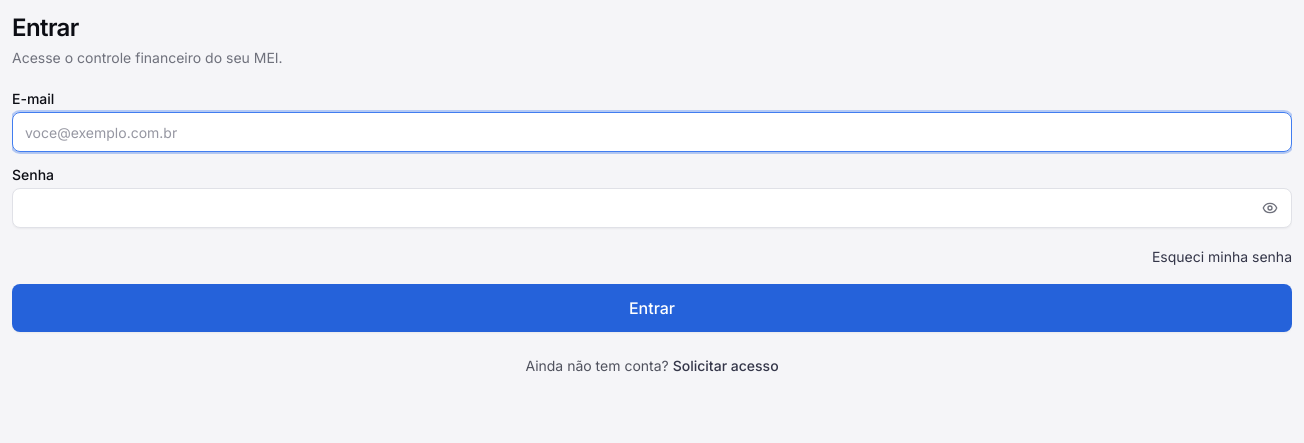
LoginPage › mostra erro de rede de forma amigável
In the field labelled "E-mail": (652, 132) x1=12 y1=112 x2=1292 y2=152, type "maria@exemplo.com.br"
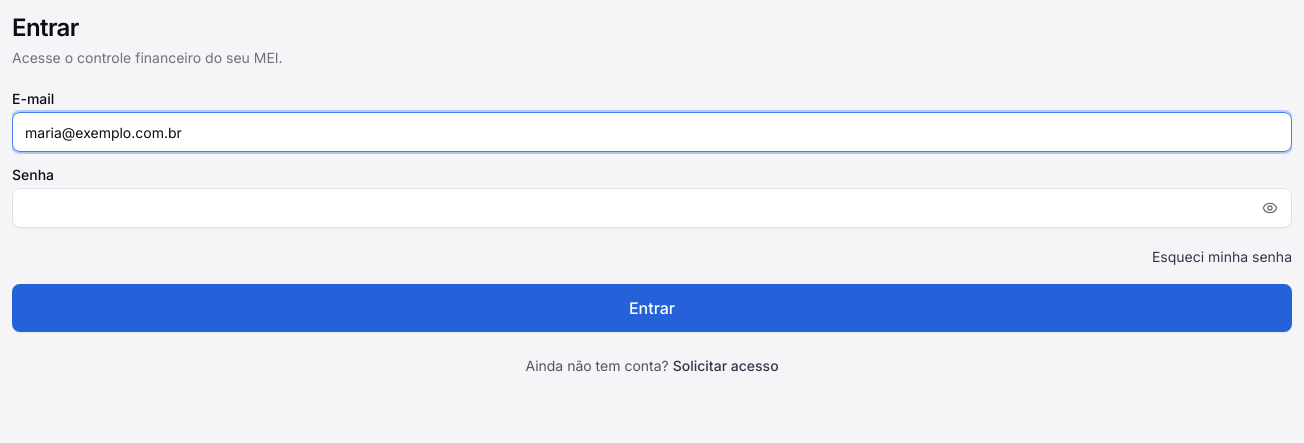
In the password field labelled "Senha": (652, 208) x1=12 y1=188 x2=1292 y2=228, type "segredo123"
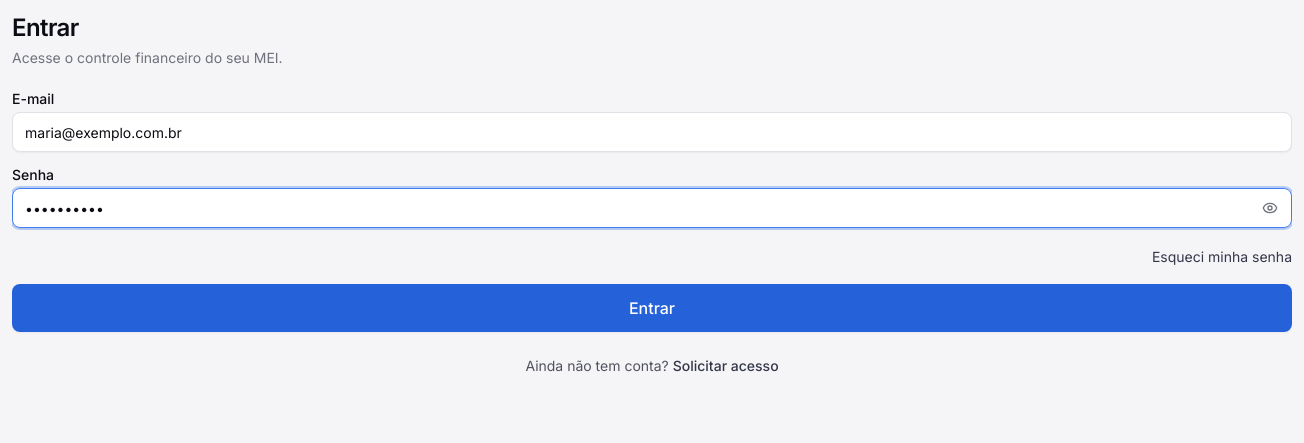
Click the button "Entrar": (652, 308) x1=12 y1=284 x2=1292 y2=332
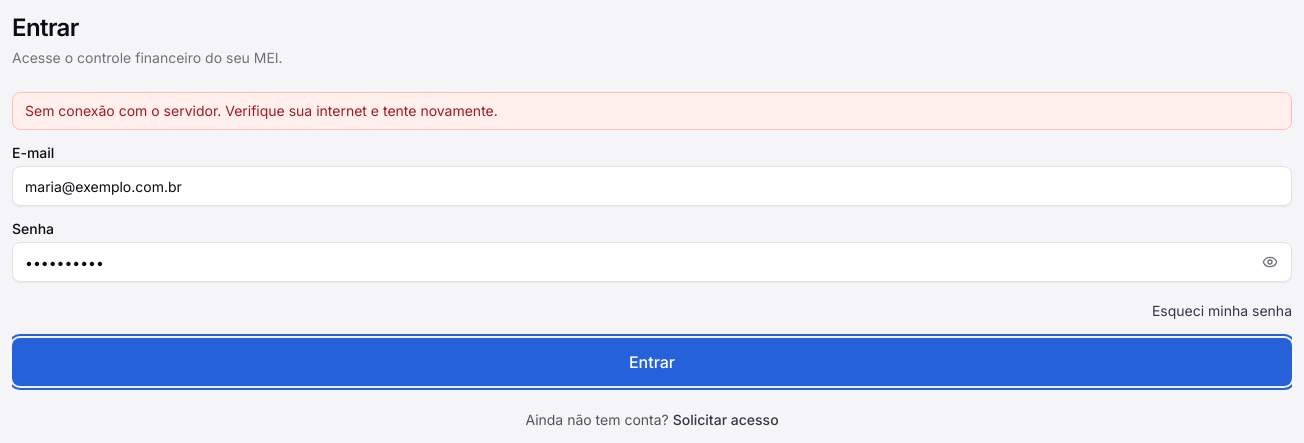
Result: the message shows "Sem conexão com o servidor" at x1=25 y1=102 x2=498 y2=119
